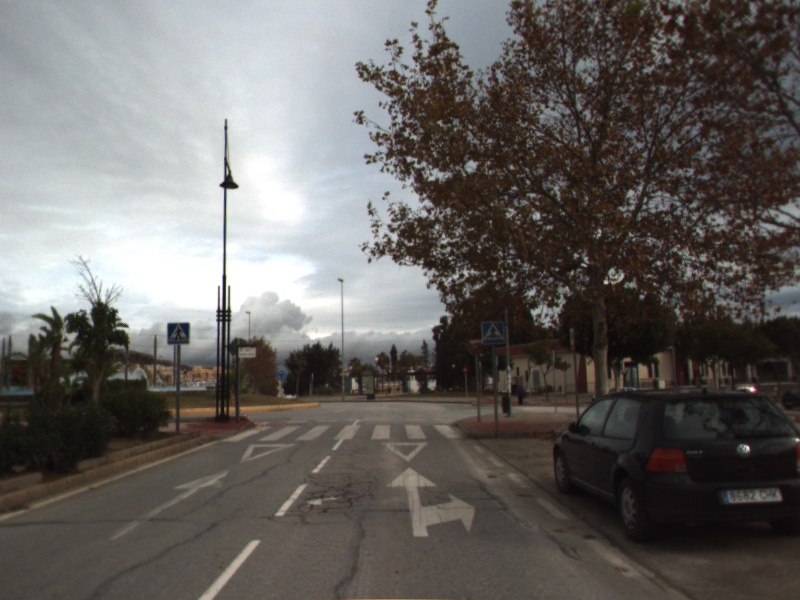STRAIGHT: (106, 467, 232, 542)
STRAIGHT_RIGHT: (384, 465, 478, 539)
